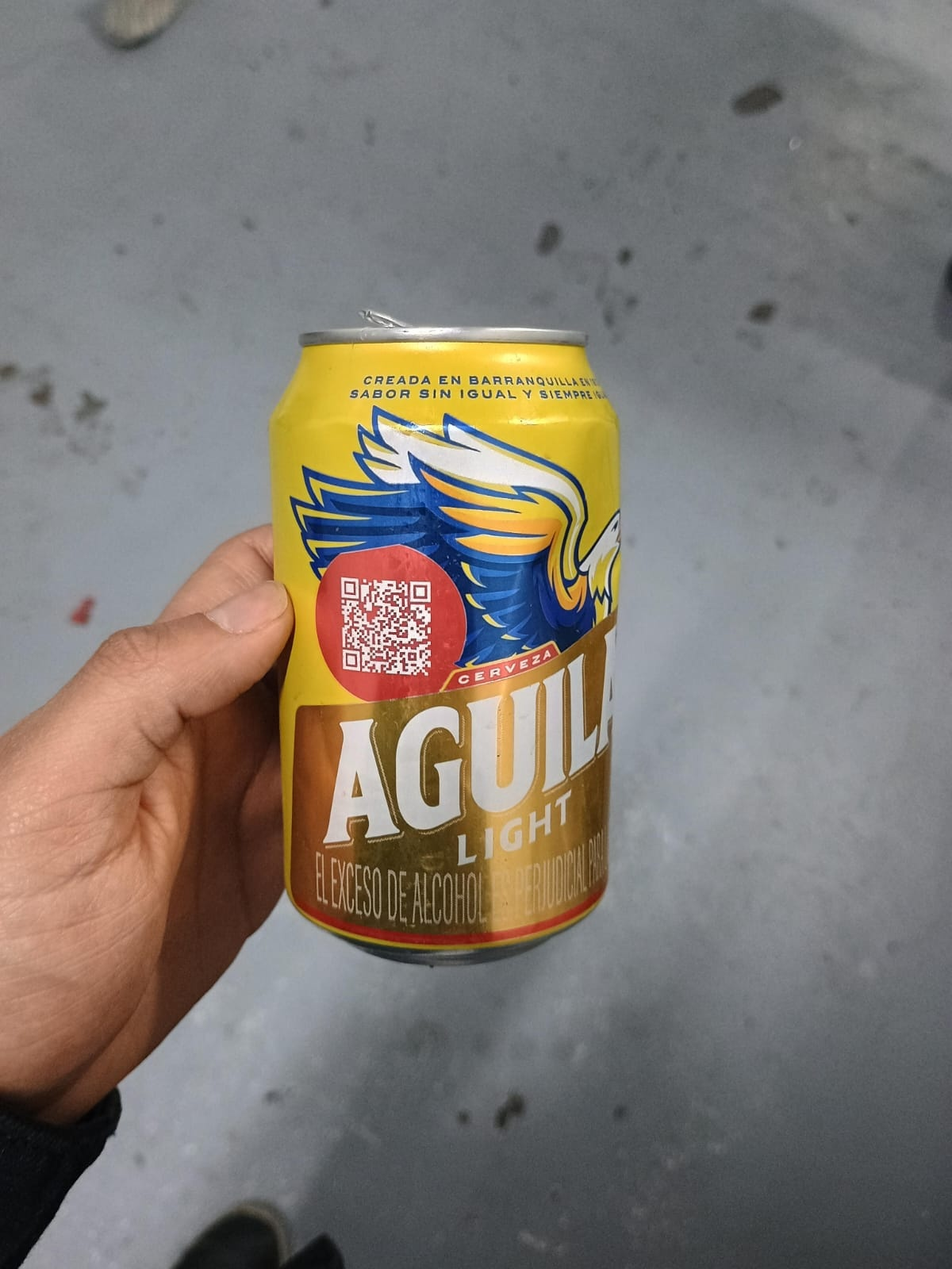Metal: (269, 324, 625, 965)
